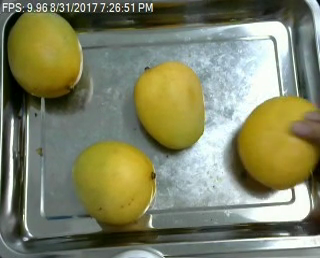Mango: (236, 93, 320, 191), (71, 140, 156, 226), (7, 8, 85, 98), (134, 60, 205, 151)
